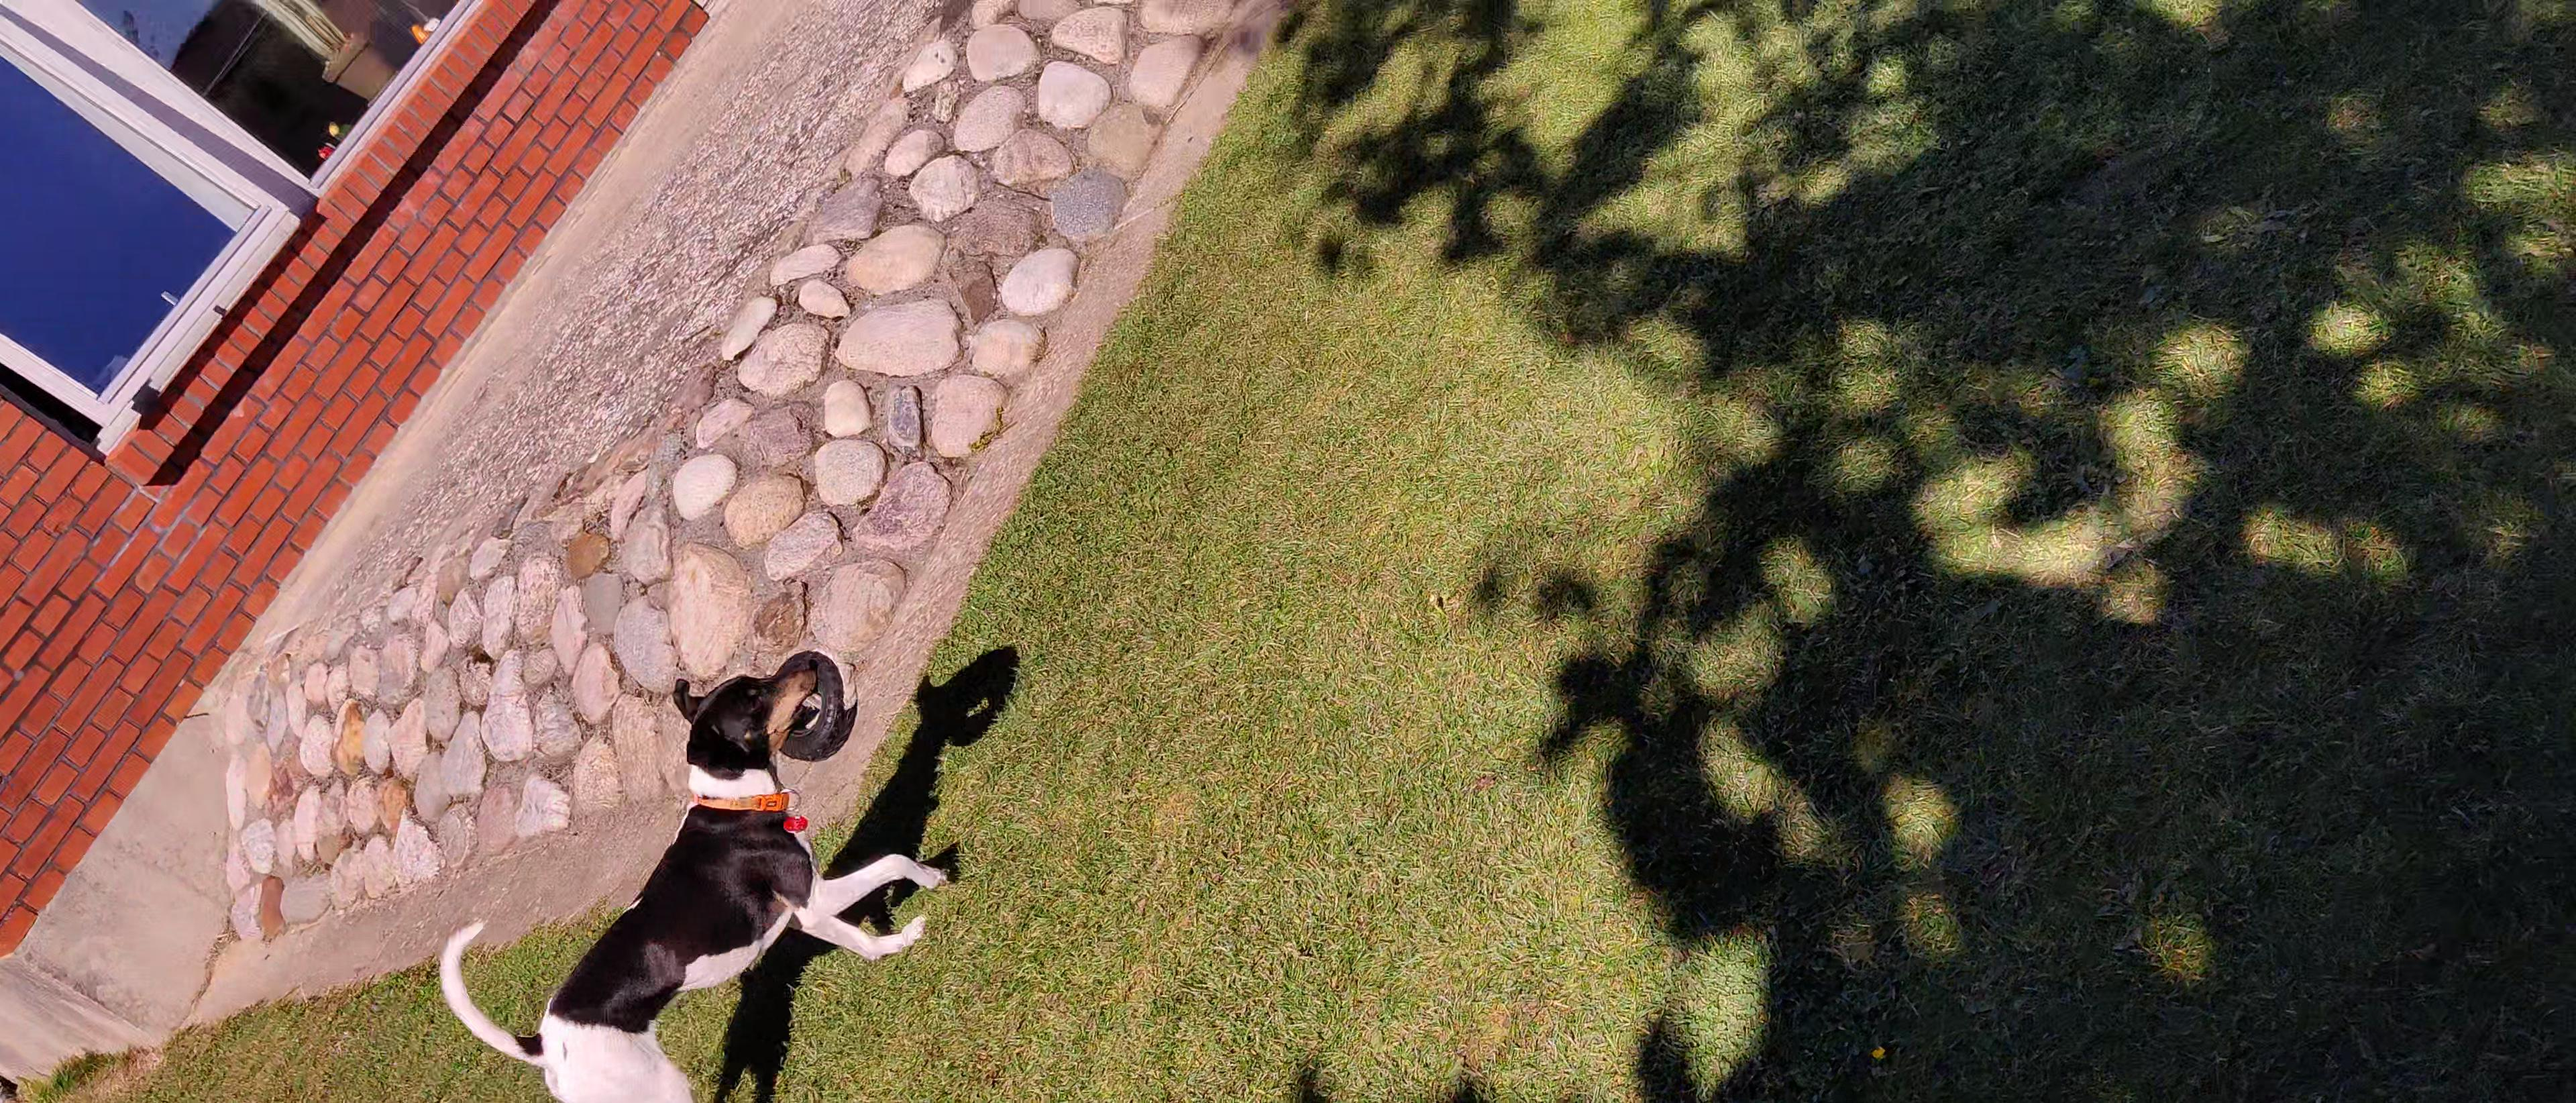Dog: (427, 658, 963, 1103)
